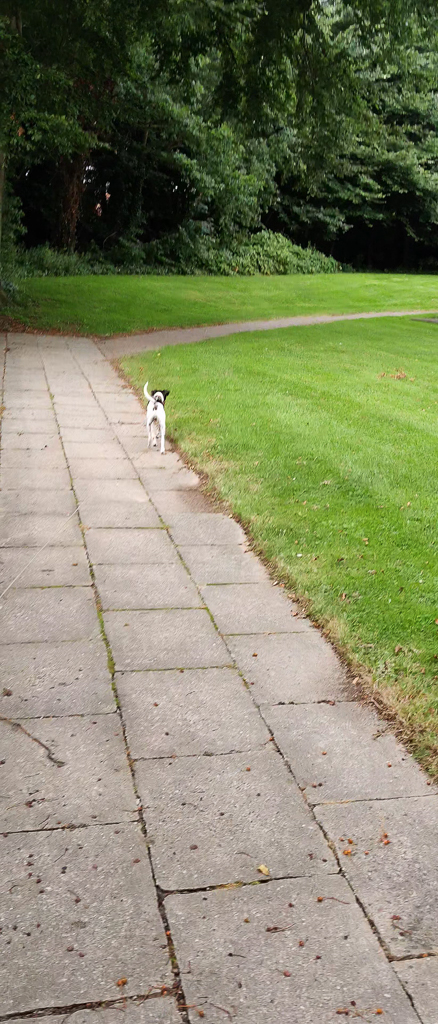Dog: (132, 376, 181, 461)
